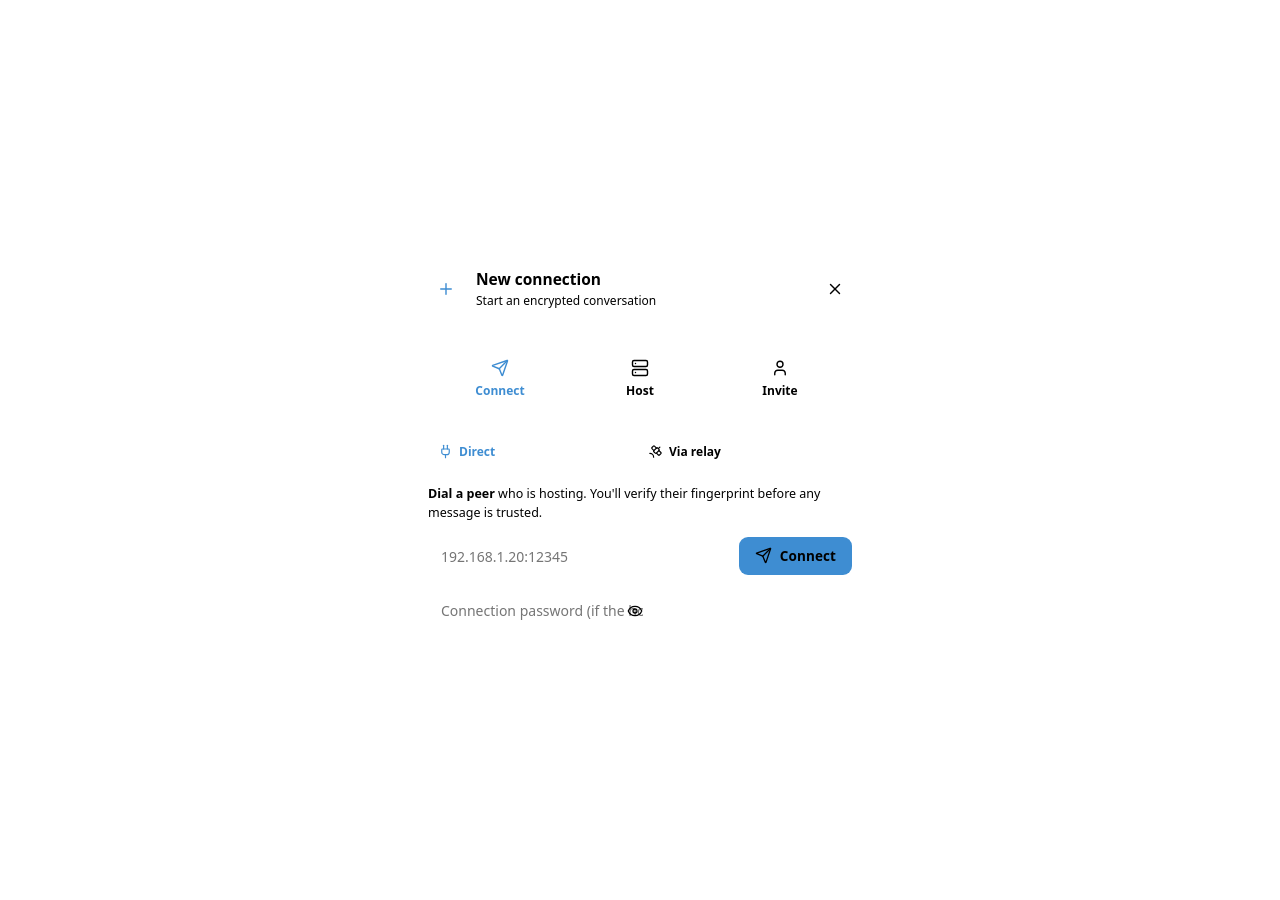
Test case: Creator — dialling a peer › refuses an empty address
Click the button "Connect" below "Dial a peer": (795, 555) [739,536,852,574]
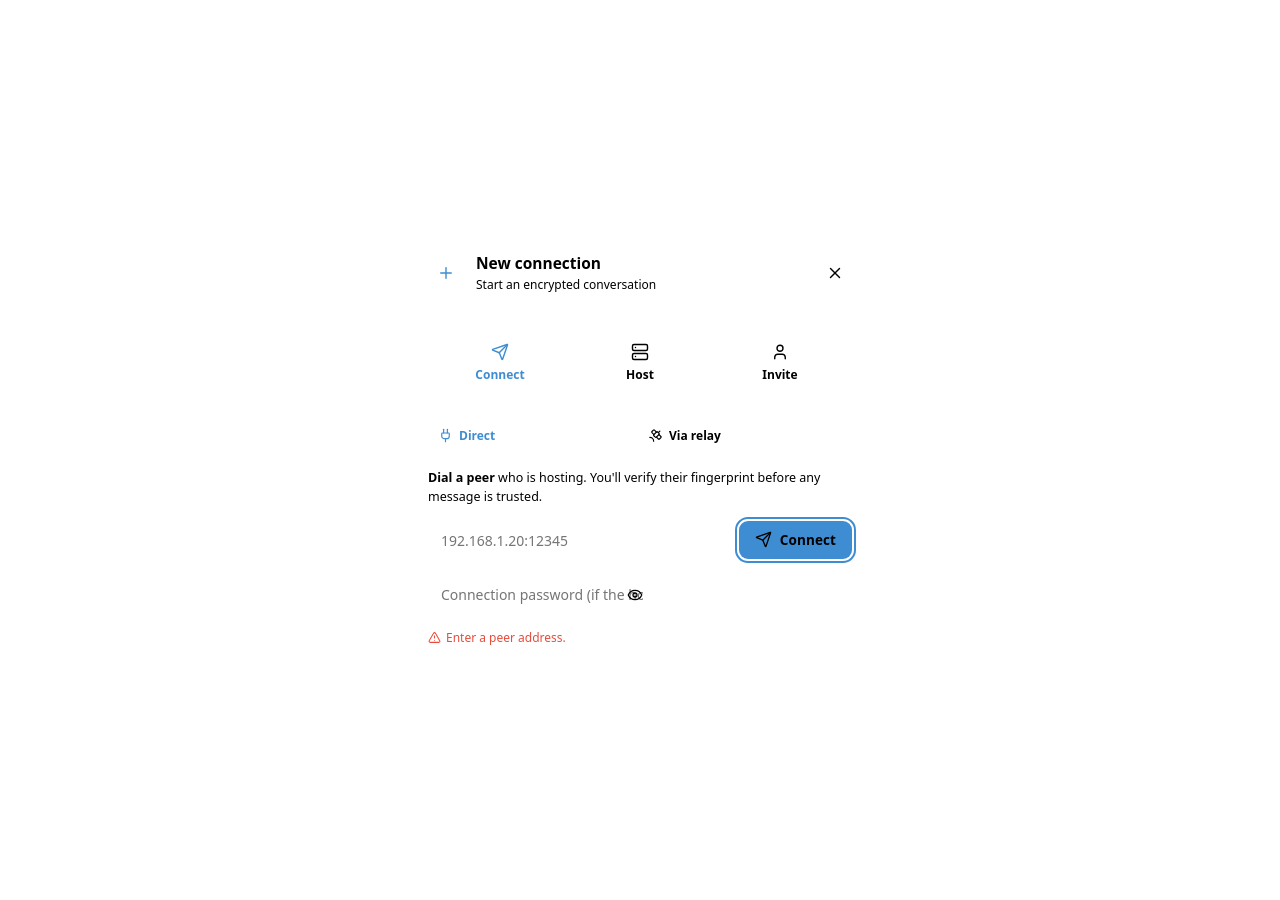
Now the text "Enter a peer address." is shown, box [428,628,566,645]
